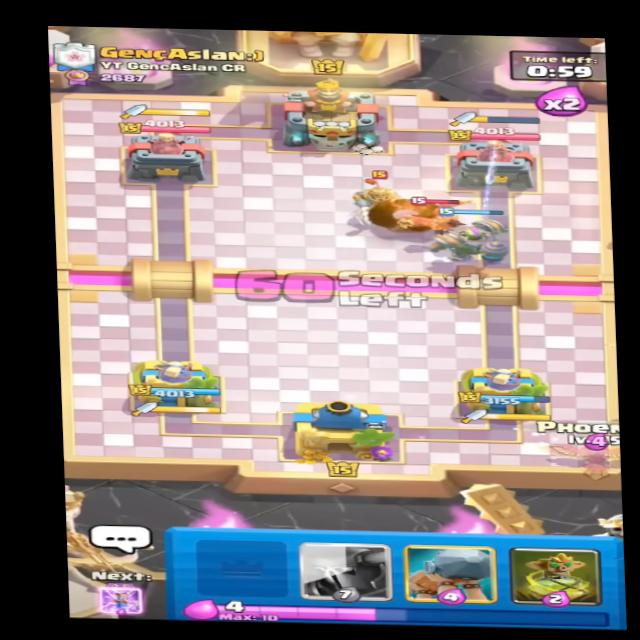phoenix: (382, 195, 510, 248)
prince: (337, 169, 413, 227)
